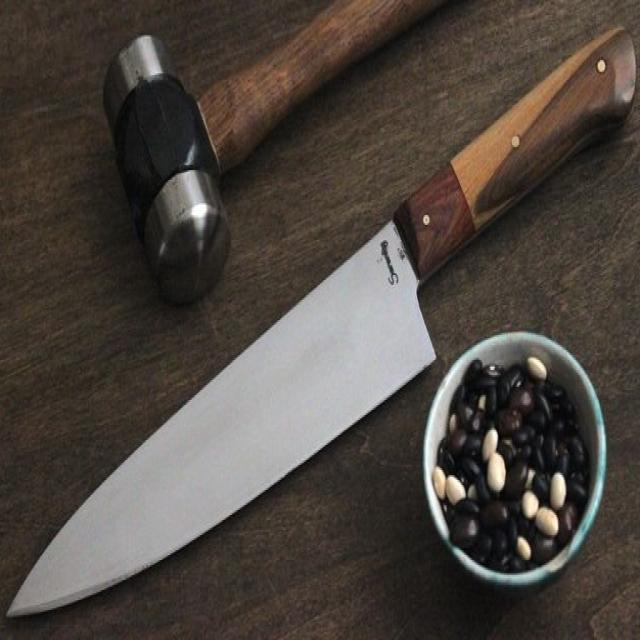knife: (4, 16, 640, 640)
